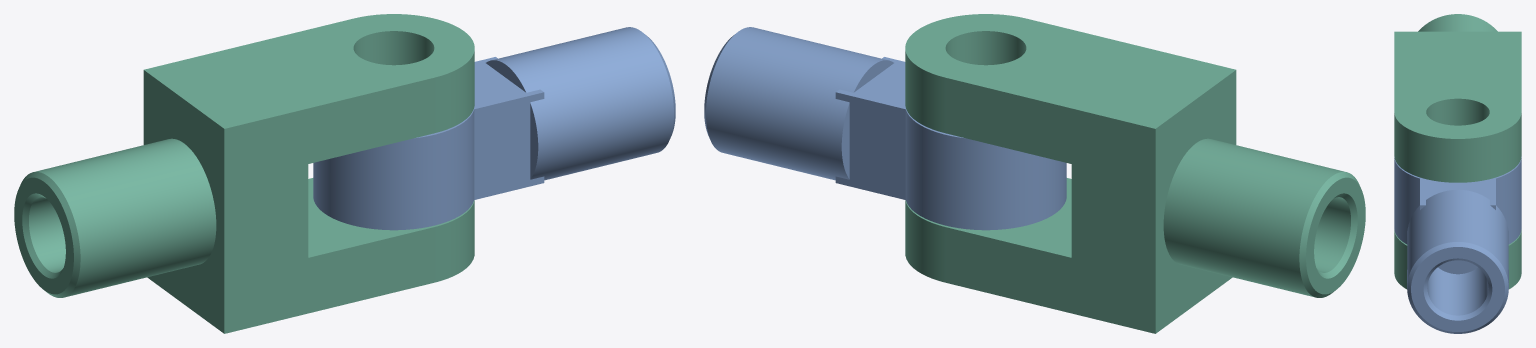
Rendered from step_12.glb.
3 renders of one model, left to right at view 1: azimuth 30°, elevation 25°; view 2: azimuth 150°, elevation 25°; view 3: azimuth 270°, elevation 25°, orthographic. The views are drawn at different scales.
Parts seen in each view (by area): view 1: part__fork end, part__eye end; view 2: part__fork end, part__eye end; view 3: part__fork end, part__eye end.
Part boxes in pixels (box(x1,y1,x2,y2)): part__fork end: box(14, 14, 474, 333); part__eye end: box(313, 27, 675, 230); part__fork end: box(905, 14, 1365, 333); part__eye end: box(704, 27, 1066, 230); part__fork end: box(1394, 14, 1521, 289); part__eye end: box(1394, 157, 1521, 333).
Size of the model in its own units: 215 by 70 by 50.
